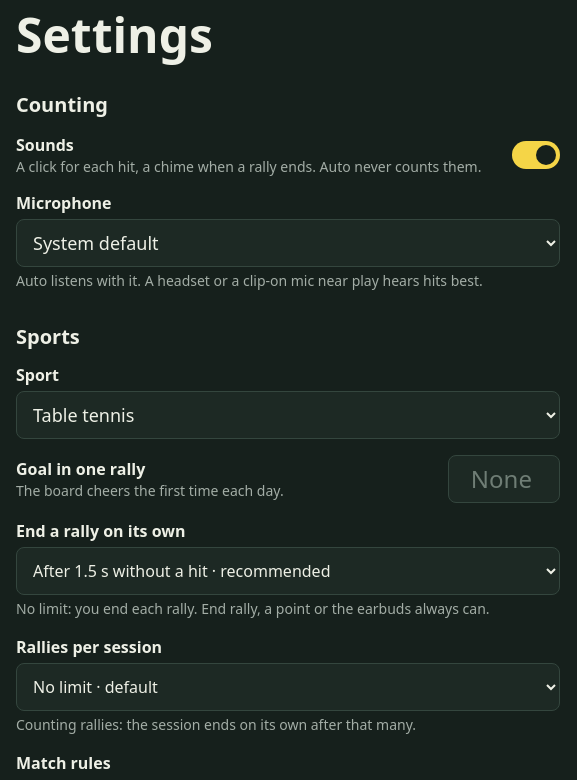
Scenario: after Delete everything, the screen shows the defaults again
This screenshot has width=577, height=780.
What coordinates should you click on to do the following:
click the checkbox labelled "Sounds"
I would click on:
 (288, 155)
Its box is [16,131,560,179].
(page scrolled)
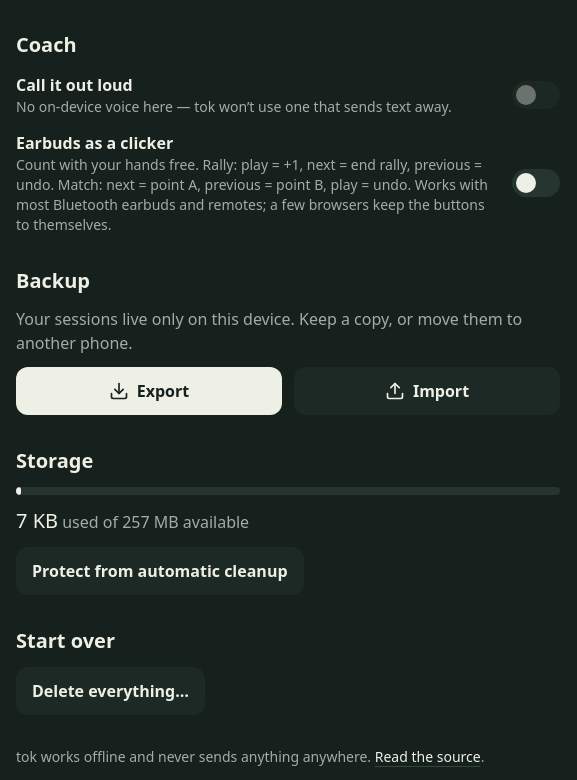
What coordinates should you click on to do the following:
click the button "Delete everything…"
I would click on:
 (110, 691)
Its box is [16,667,205,715].
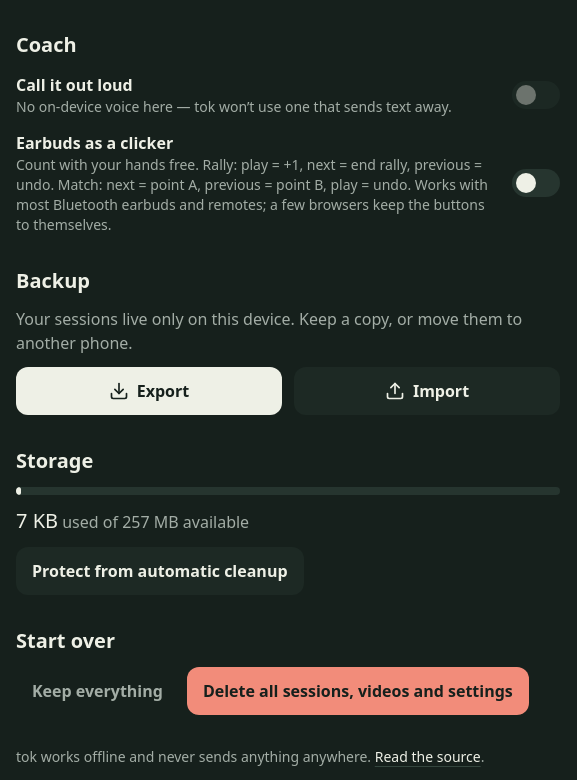
What coordinates should you click on to do the following:
click the button "Delete all sessions, videos and settings"
I would click on:
 (358, 691)
Its box is [187,667,529,715].
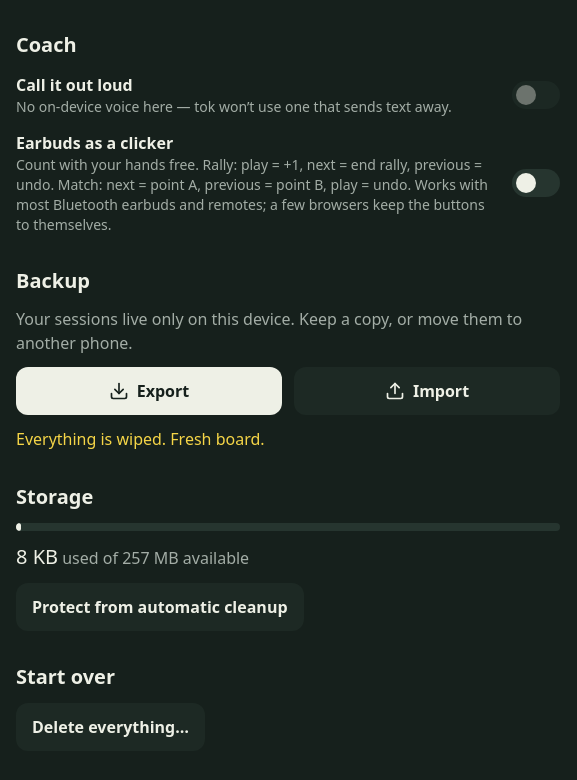
Check: the text "Everything is wiped. Fresh board." is shown, box [16,428,264,450]
